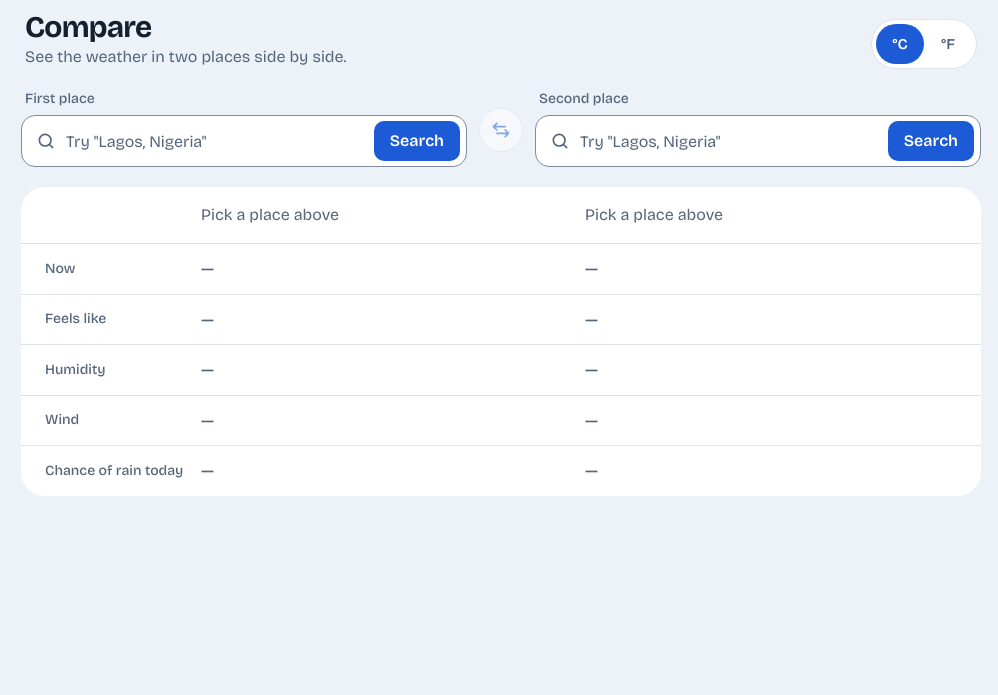
Test: Compare page › follows the °C/°F setting
Type "Lagos" into the dropdown named "First place". click: (215, 141)
box: left=60, top=116, right=370, bottom=166
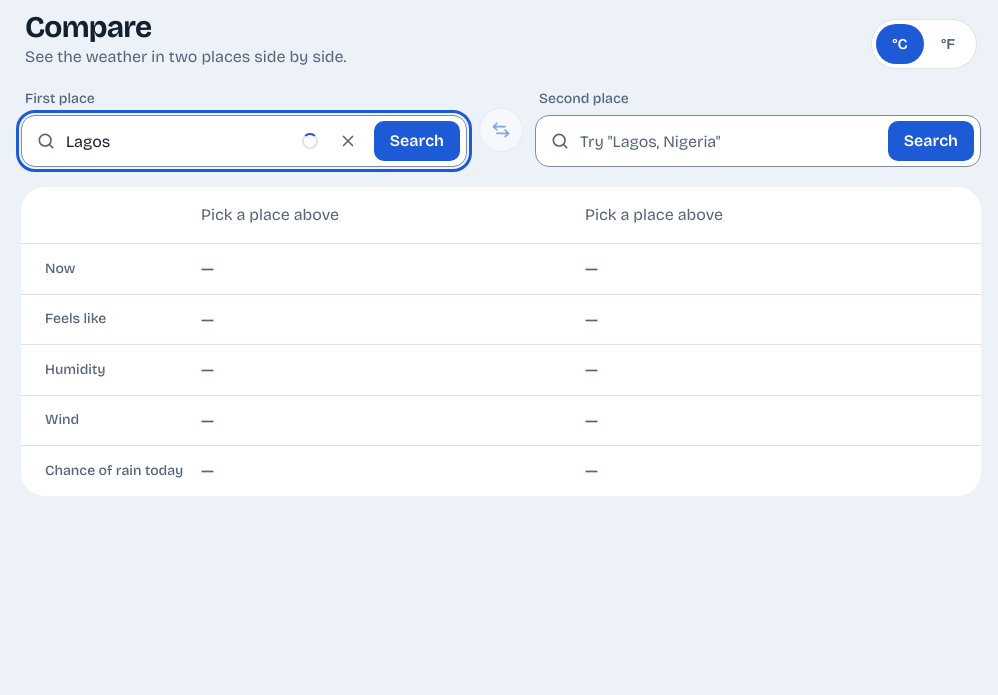
Click the 1st button "Search". click: (417, 141)
box: left=374, top=121, right=460, bottom=161
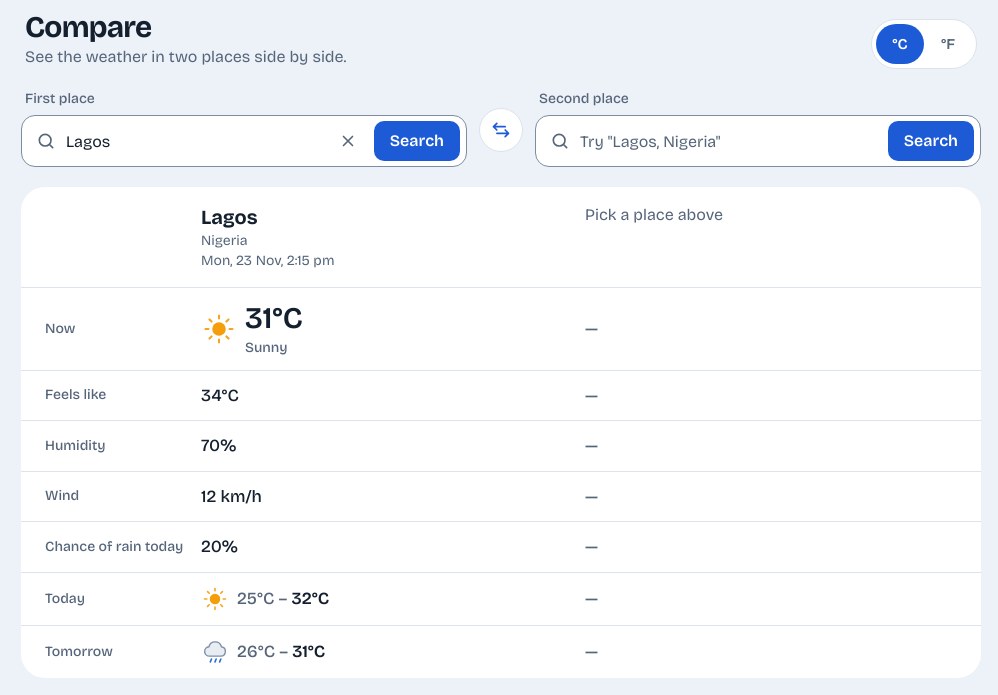
Expected: the text "Nigeria" is shown, left=201, top=232, right=248, bottom=249
Click the button "°F". click: (948, 44)
box: left=924, top=24, right=972, bottom=64
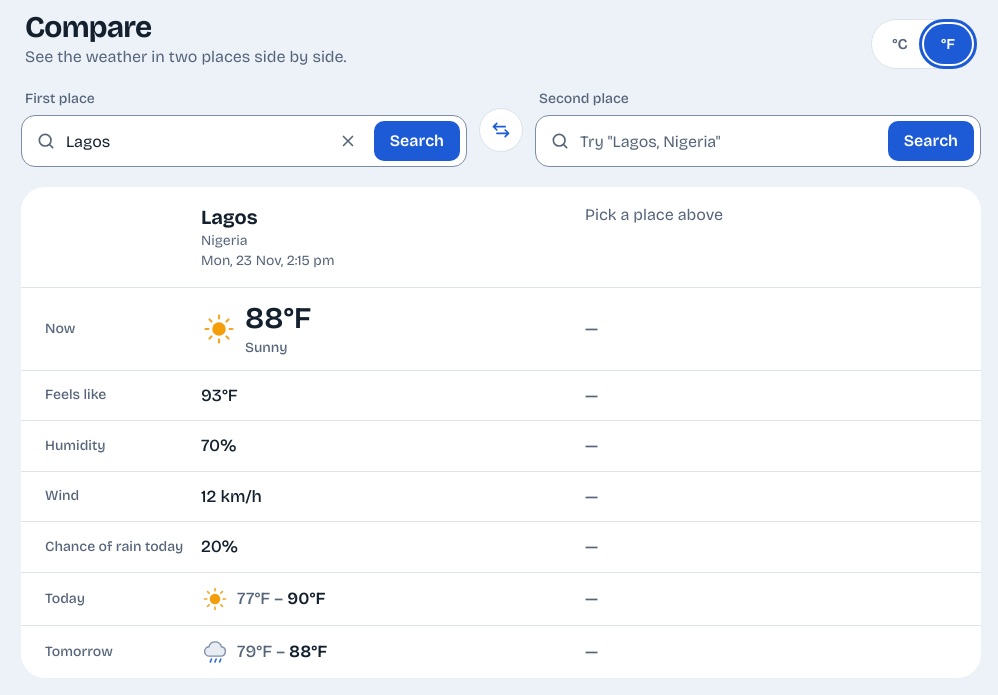
Expected: the cell "93°F" is shown, left=201, top=384, right=238, bottom=406
